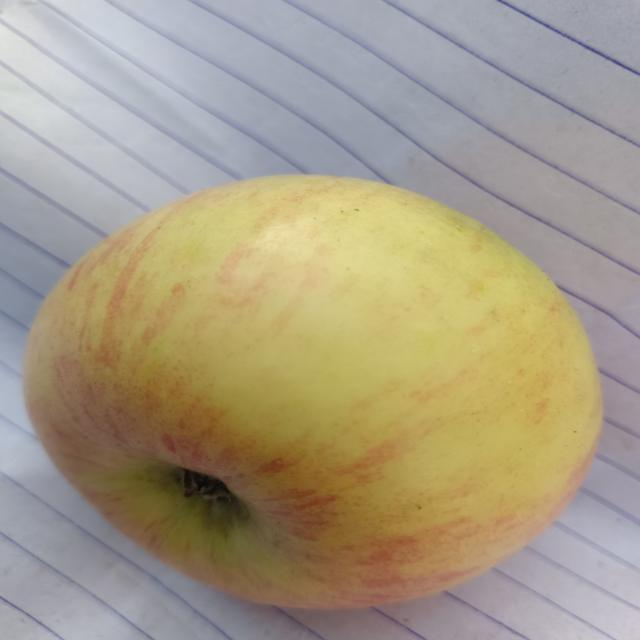Fresh Apple: (27, 170, 605, 632)
